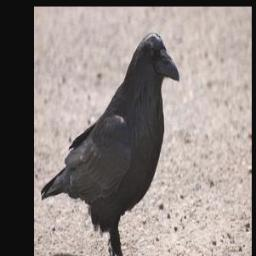Crow: (38, 31, 181, 256)
